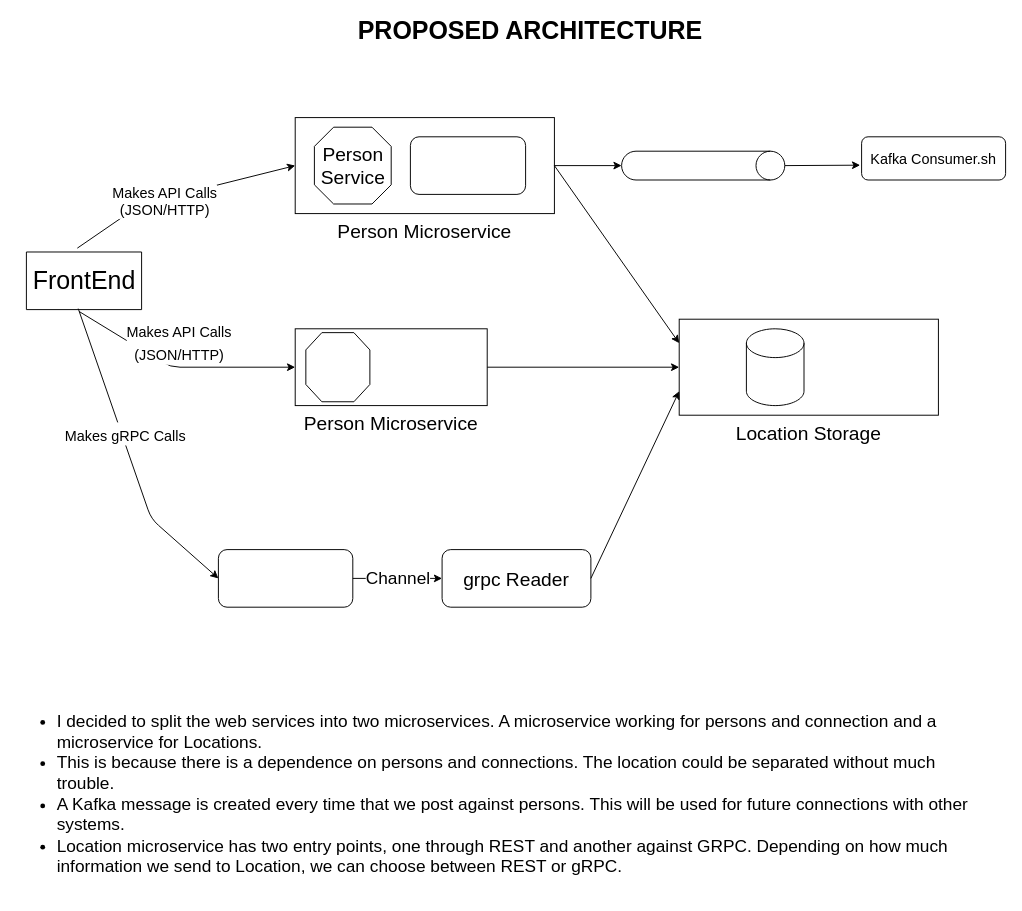
This 1022x911 diagram has some shape labels left out. The shapes that lost their labels are listed below. From the top down, each one's centre as x and y in pixels, then its label:
At point 467,165: "Kafka Producer".
At point 703,165: "Persona Topic".
At point 337,367: "Location Service".
At point 285,578: "Location grpc".
